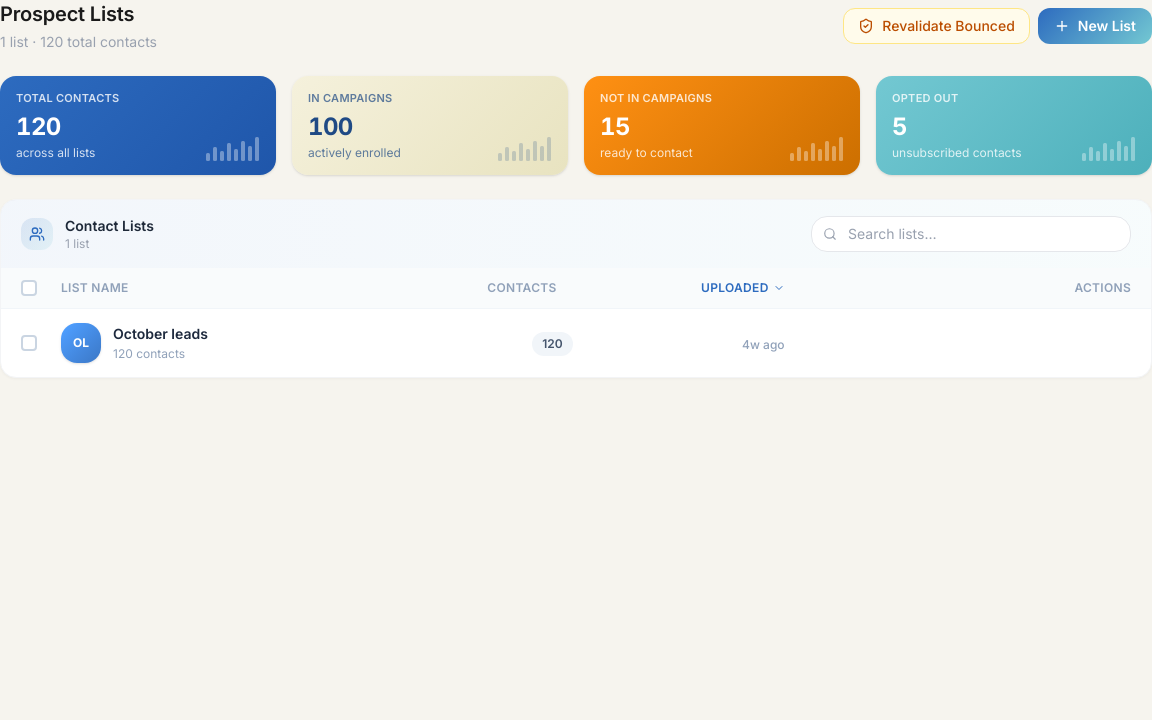
Test: Prospects page › opens the upload dialog
Expected: the text "October leads" is shown, 113,324 -> 208,344
Click the button "New List" at (1095, 26), box 1038,8 -> 1151,44
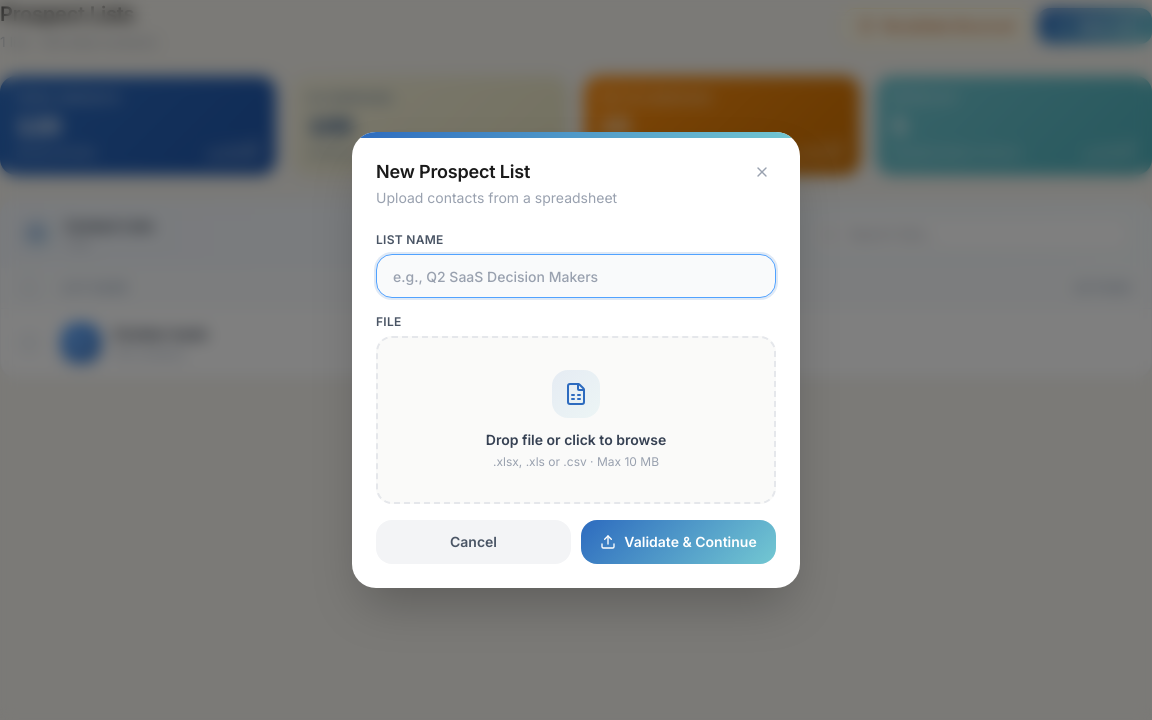
Now the dialog is shown, box 352,132 -> 800,588
